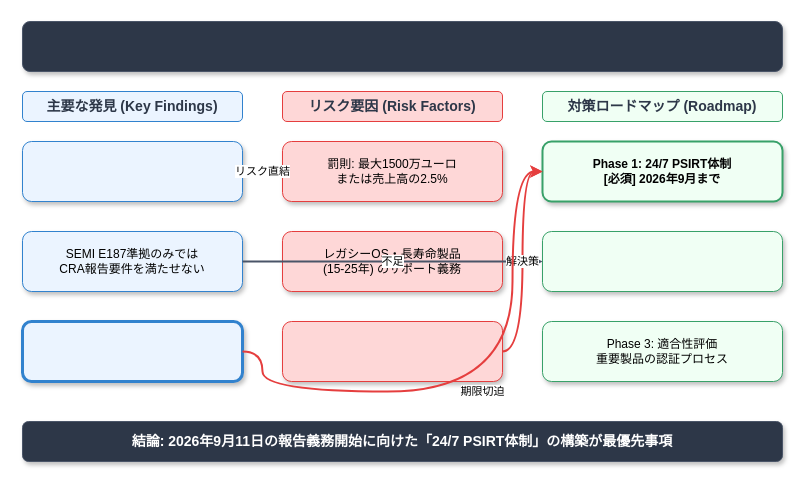
Image size: 807x486. Some labels were removed from this diagram. The centre of each missing label's shape, as x and y in pixels:
"EU CRA Impact & Roadmap: 日本半導体装置関連ソフトウェア開発" belongs at (403,47).
"Phase 2: SBOM & プロセス バイナリ解析依存からの脱却" belongs at (663,262).
"半導体製造装置は 「重要製品」に該当 (Annex I/II)" belongs at (133,172).
"時差対応の壁 (JST vs CET +8h)" belongs at (393,352).
"最大リスク: 報告期限 (24h/72h) vs 現場適用リードタイム" belongs at (133,353).
